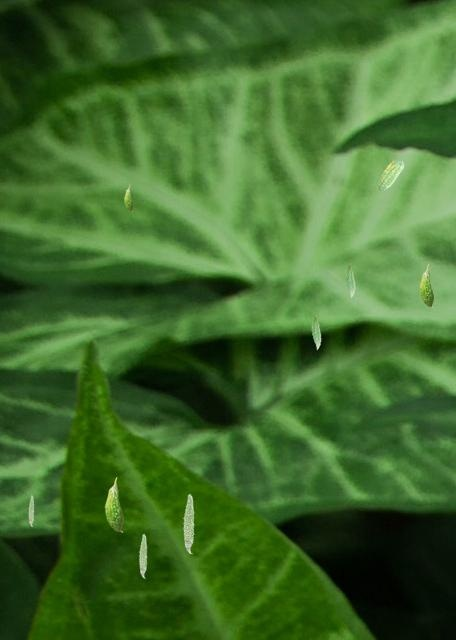ampalaya: (104, 477, 123, 532), (377, 160, 404, 191), (182, 493, 194, 554), (419, 263, 434, 308), (138, 533, 147, 578), (345, 263, 355, 298), (311, 315, 321, 350), (123, 184, 133, 212), (28, 495, 34, 527)
